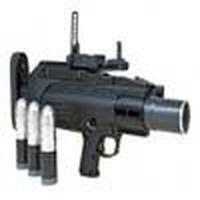gun: (7, 9, 195, 187)
